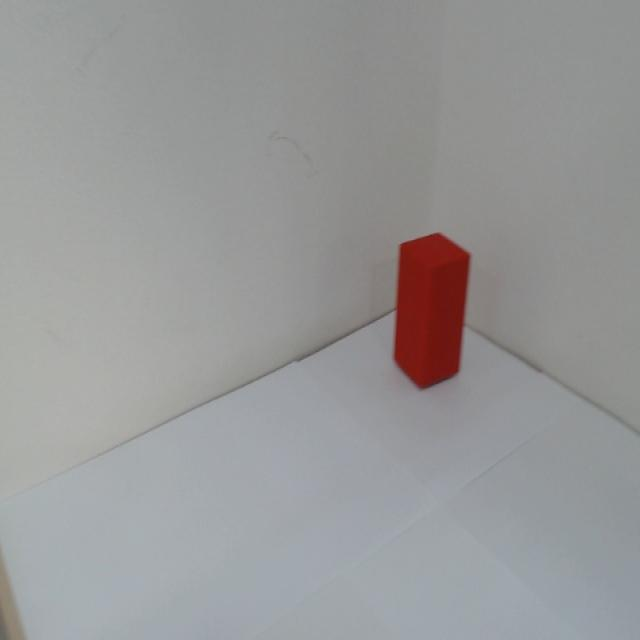cube: (386, 227, 474, 396)
